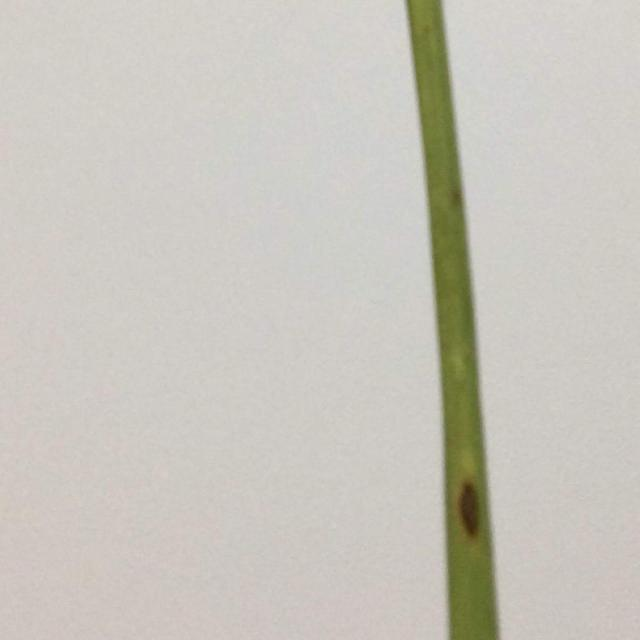Leaf_Blast: (439, 436, 510, 587)
